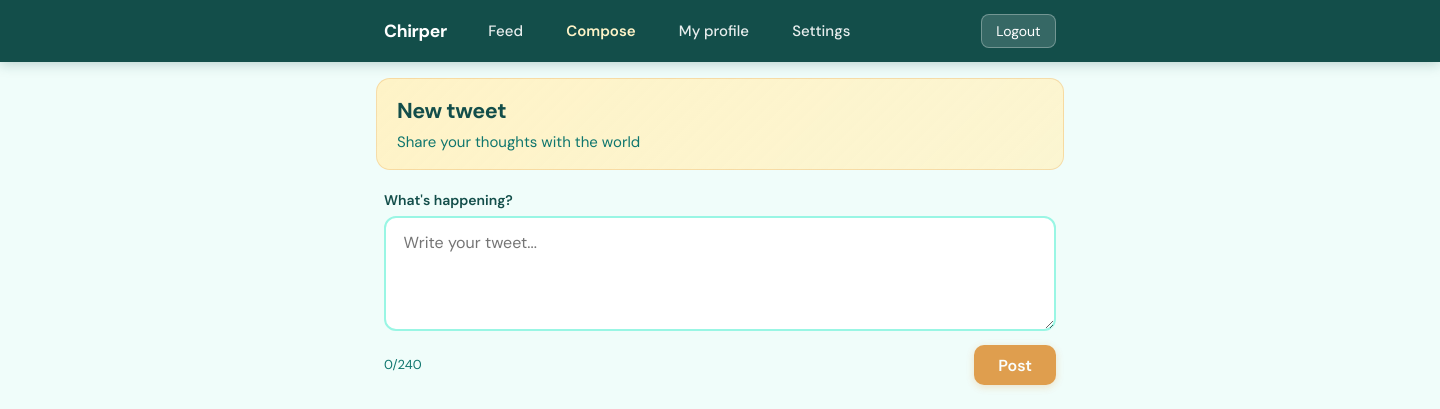
Test case: Compose › posts tweet and redirects to / on 201
Type "My new tweet" into the text box labelled "What's happening?".
click(720, 274); type("My new tweet")  # box [384, 216, 1056, 332]
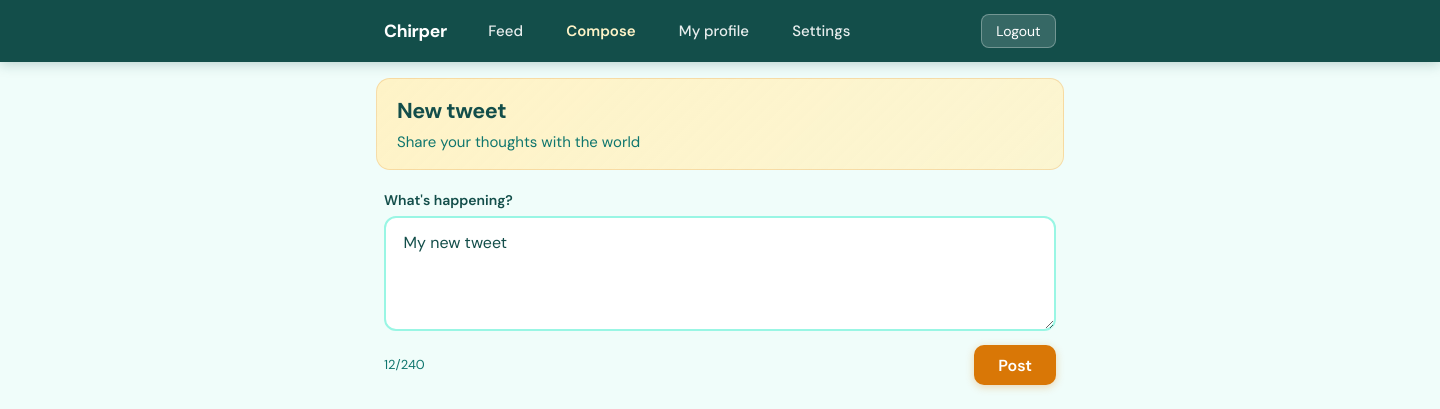
Click the button "Post".
click(1015, 365)  # box [974, 345, 1056, 385]
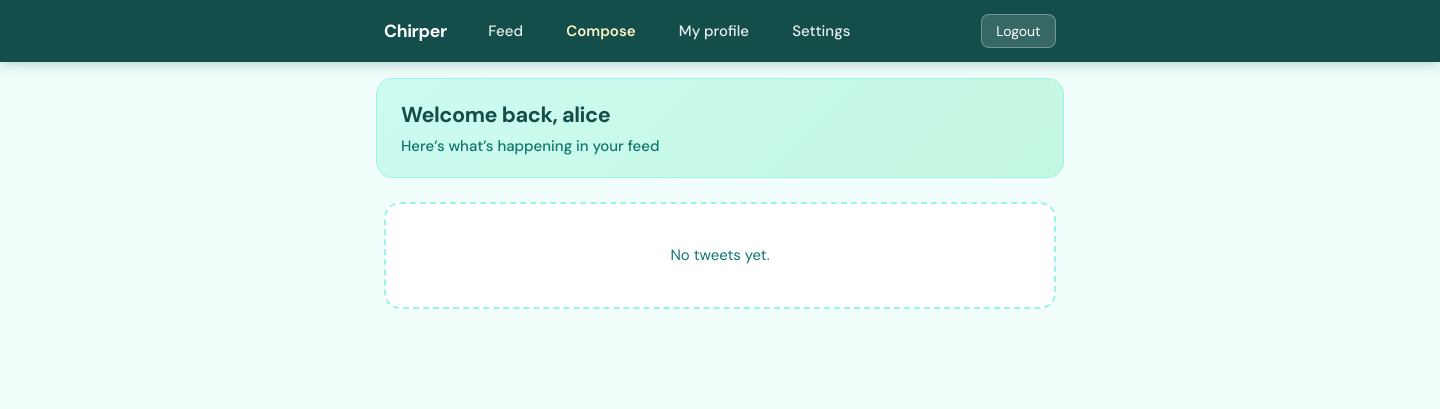
Now the text "Welcome back, alice" is shown, box [401, 101, 610, 129]
